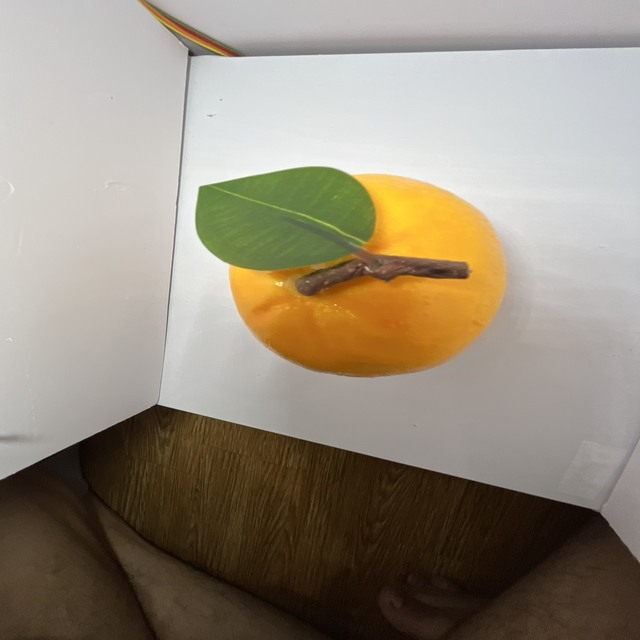Cam vang: (226, 166, 507, 383)
